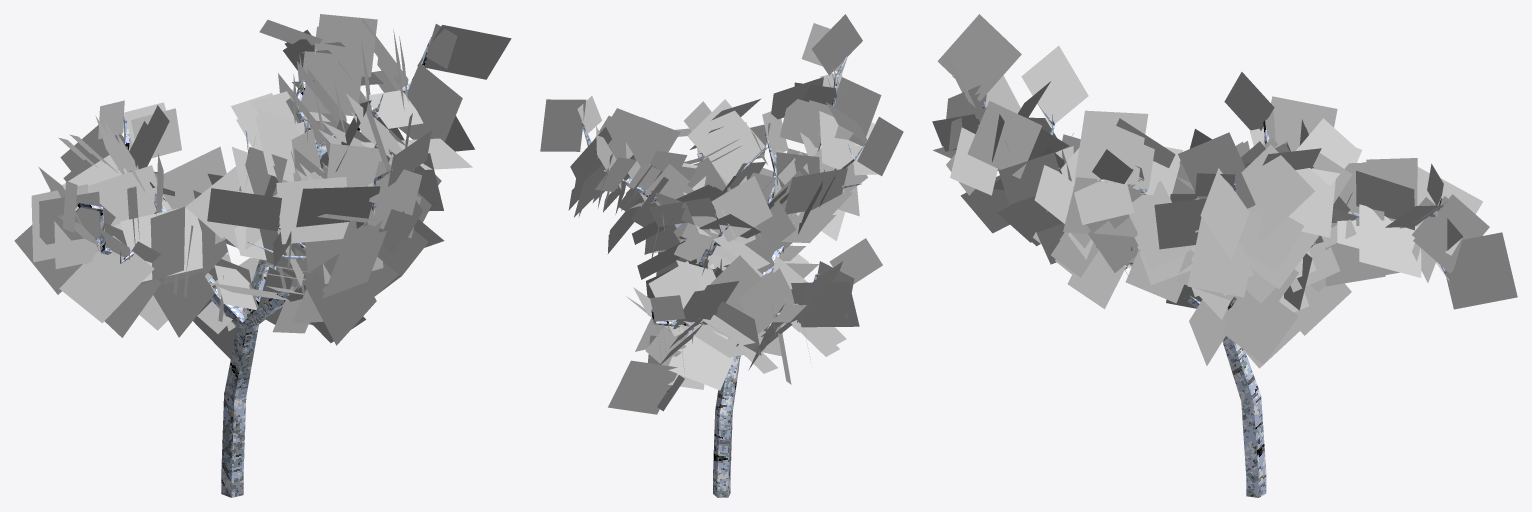
File: birch02.fbx
The picture shows the model from 3 angles, left to right: view 1: azimuth 30°, elevation 25°; view 2: azimuth 150°, elevation 25°; view 3: azimuth 270°, elevation 25°; orthographic projection. The views are drawn at different scales.
Parts seen in each view (by area): view 1: Cylinder.302, Cylinder.001; view 2: Cylinder.302, Cylinder.001; view 3: Cylinder.302, Cylinder.001.
Boxes of the visible parts, <box> form: Cylinder.302: <box>14,14,511,359</box>; Cylinder.001: <box>75,37,431,497</box>; Cylinder.302: <box>540,14,903,414</box>; Cylinder.001: <box>580,56,868,497</box>; Cylinder.302: <box>932,14,1517,368</box>; Cylinder.001: <box>952,76,1447,497</box>.
Bounding box in the file's own units: 1863 × 2042 × 2282.
